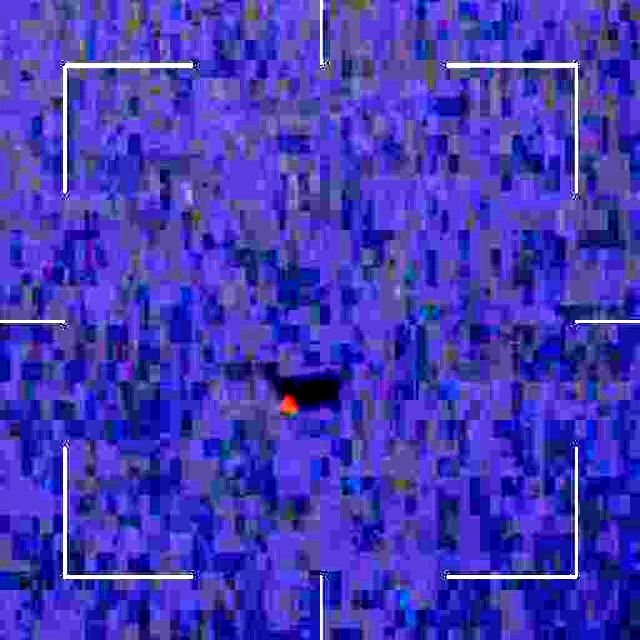bird: (258, 372, 291, 438)
